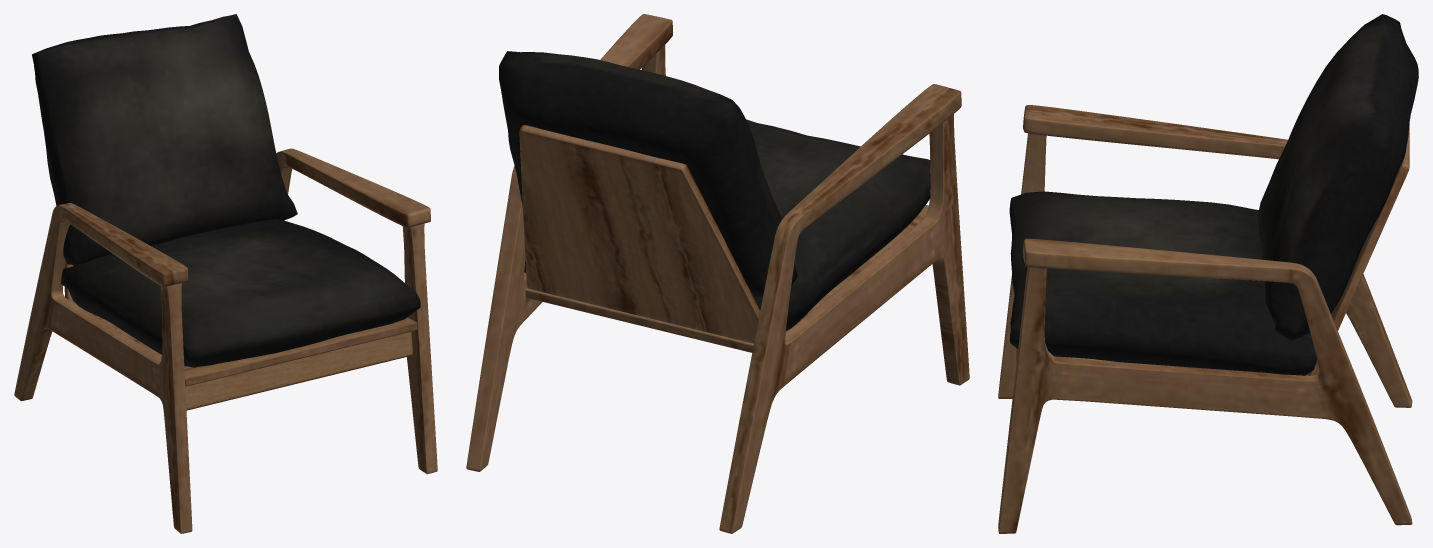
File: armchair.glb
3 renders of one model, left to right at view 1: azimuth 30°, elevation 25°; view 2: azimuth 150°, elevation 25°; view 3: azimuth 270°, elevation 25°, orthographic. The views are drawn at different scales.
Parts seen in each view (by area): view 1: modern_arm_chair_01; view 2: modern_arm_chair_01; view 3: modern_arm_chair_01.
Boxes of the visible parts, box(x1,y1,x2,y2) form: modern_arm_chair_01: box(14, 14, 437, 533); modern_arm_chair_01: box(466, 14, 969, 533); modern_arm_chair_01: box(998, 14, 1418, 533).
Bounding box in the file's own units: 0.8203 × 1.02 × 0.9866.
Materials: 2 (2 with a texture image).
